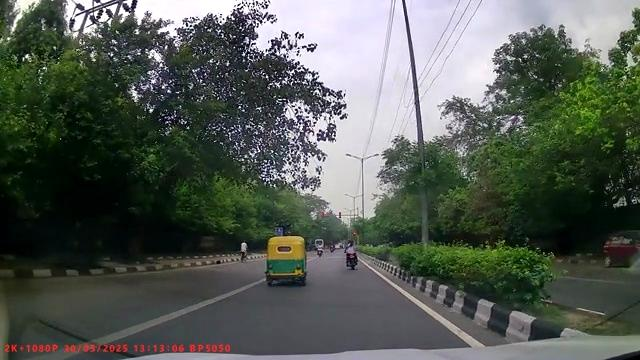motorcycle_with_helmet: (344, 240, 359, 271)
